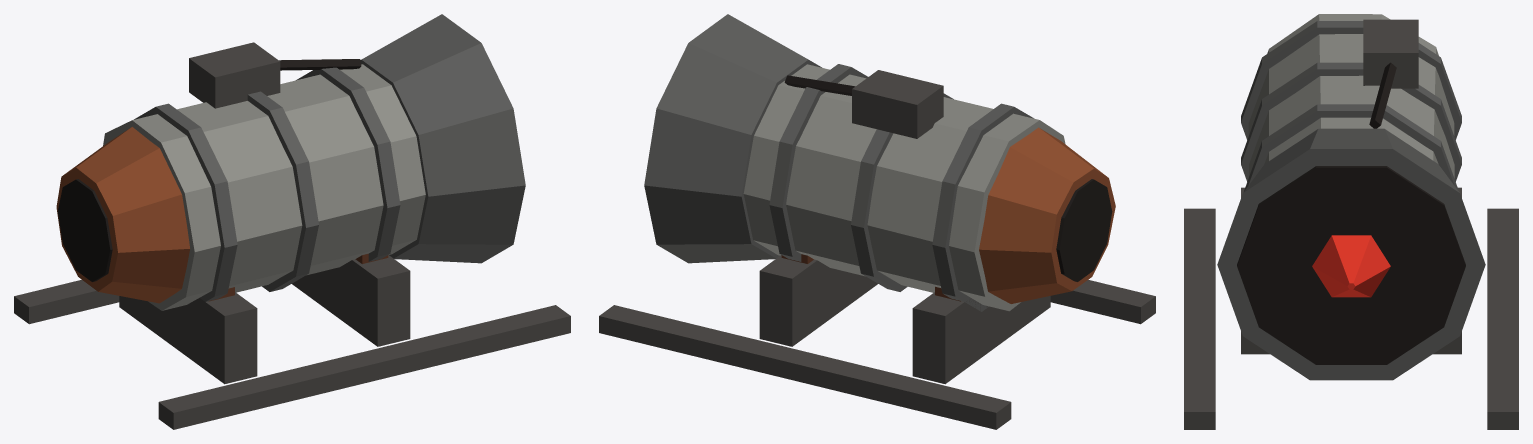
File: eng_turbine.glb
3 views of the same model, side by side, from view 1: azimuth 30°, elevation 25°; view 2: azimuth 150°, elevation 25°; view 3: azimuth 270°, elevation 25° (orthographic). The views are drawn at different scales.
Parts seen in each view (by area): view 1: eng_turbine; view 2: eng_turbine; view 3: eng_turbine.
Boxes of the visible parts, x1,y1,x2,y2 form: eng_turbine: [14, 14, 570, 429]; eng_turbine: [599, 14, 1155, 429]; eng_turbine: [1184, 14, 1518, 429].
Size of the model in its own units: 1.29 by 0.76 by 0.848.
